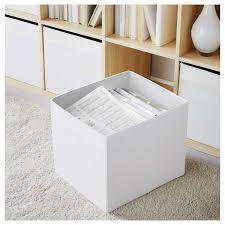cube: (50, 71, 188, 210)
